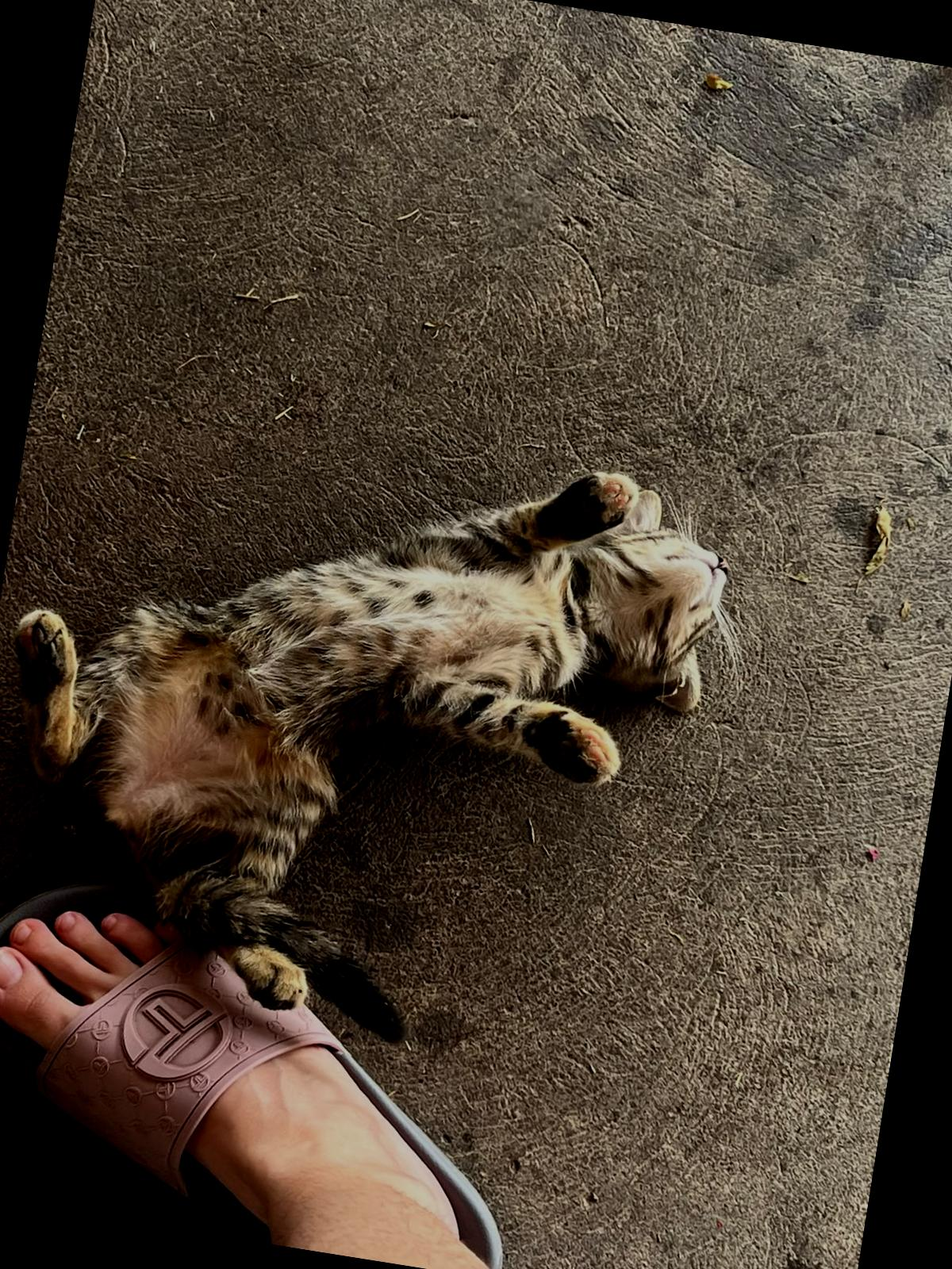macka: (0, 385, 748, 1073)
